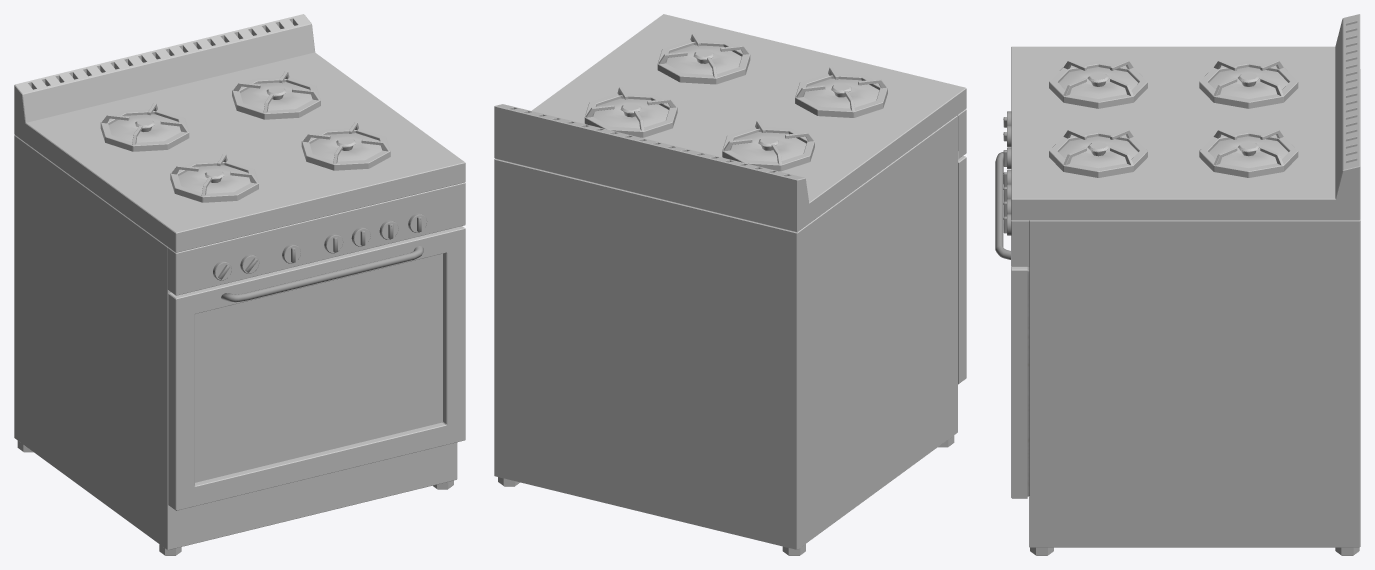
File: uploads_files_5702623_GasStoveWithOven.obj
3 views of the same model, side by side, from view 1: azimuth 30°, elevation 25°; view 2: azimuth 150°, elevation 25°; view 3: azimuth 270°, elevation 25° (orthographic). The views are drawn at different scales.
Parts seen in each view (by area): view 1: GasStoveWithOven, StoveOvenDoor; view 2: GasStoveWithOven, StoveOvenDoor; view 3: GasStoveWithOven, StoveOvenDoor.
Boxes of the visible parts, box(x1,y1,x2,y2) form: GasStoveWithOven: box(14, 14, 465, 555); StoveOvenDoor: box(168, 226, 465, 510); GasStoveWithOven: box(494, 14, 966, 555); StoveOvenDoor: box(958, 156, 966, 384); GasStoveWithOven: box(1011, 14, 1360, 555); StoveOvenDoor: box(995, 152, 1029, 498).
Size of the model in its own units: 0.75 by 0.8946 by 0.7591.
